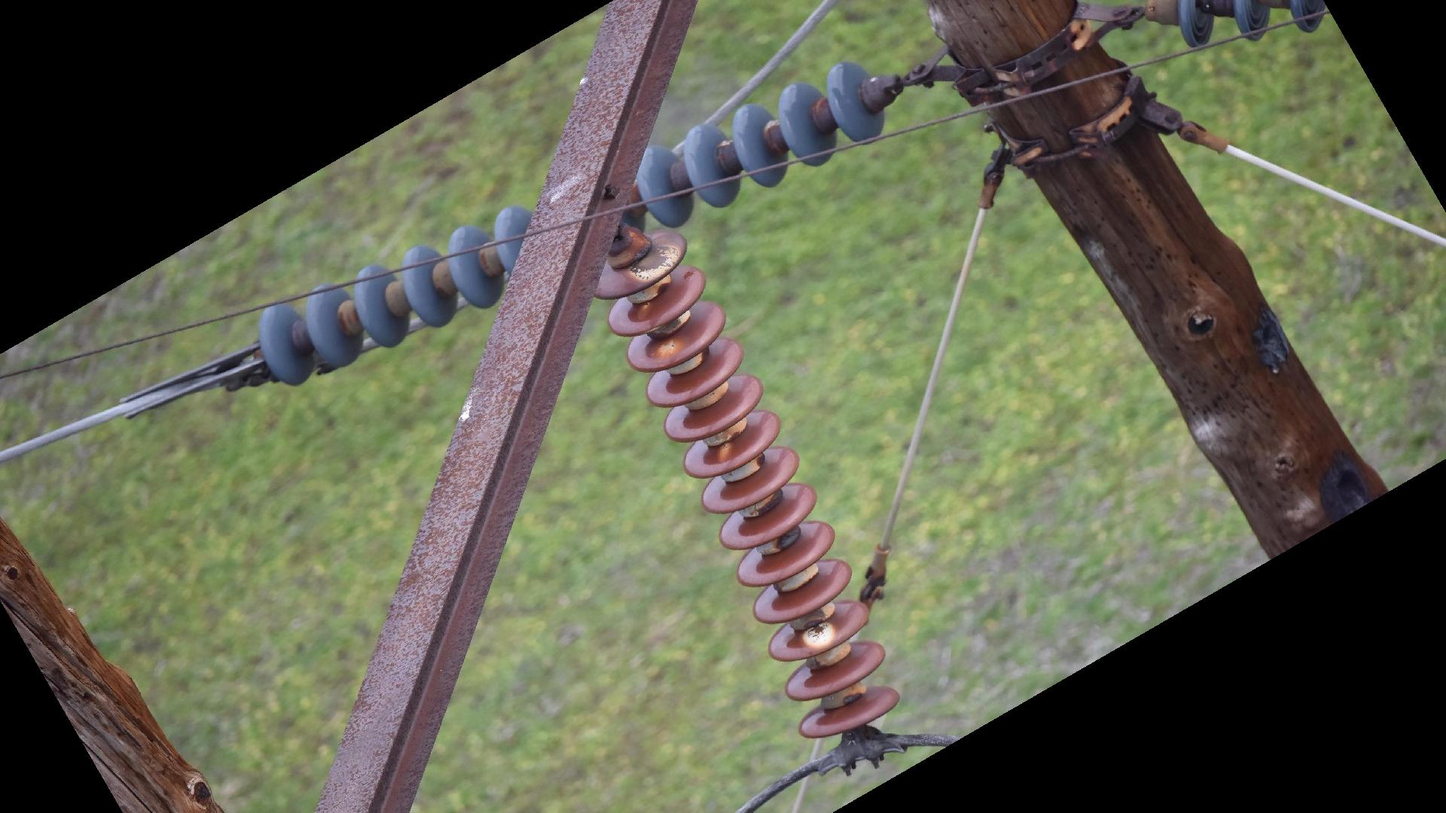insulator: (592, 224, 905, 741), (252, 200, 535, 391), (633, 54, 887, 230)
insulator_flashover: (630, 242, 684, 285), (801, 617, 838, 653), (649, 333, 685, 361), (714, 437, 735, 462)
